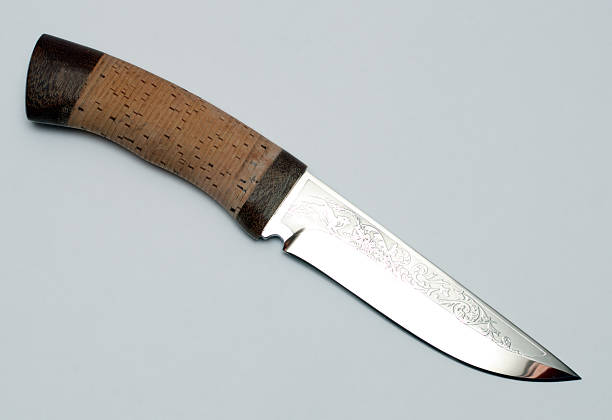knife: (22, 31, 585, 385)
